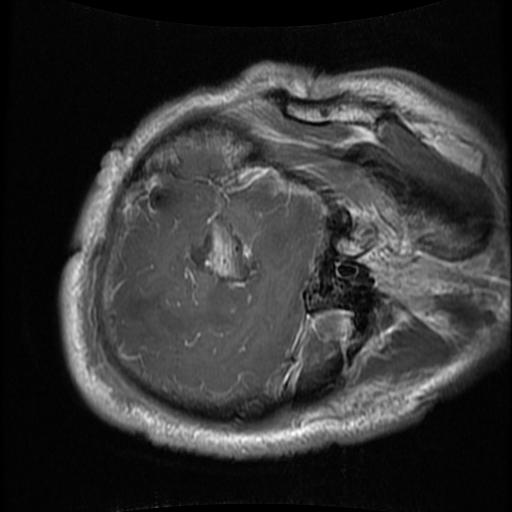glioma: (181, 219, 255, 282)
